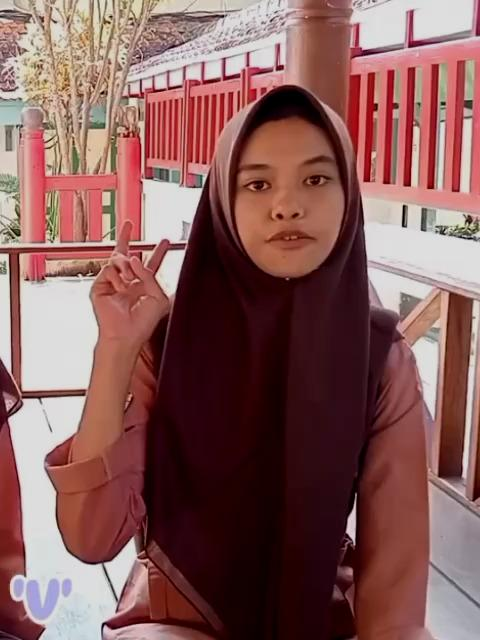V: (86, 212, 176, 336)
